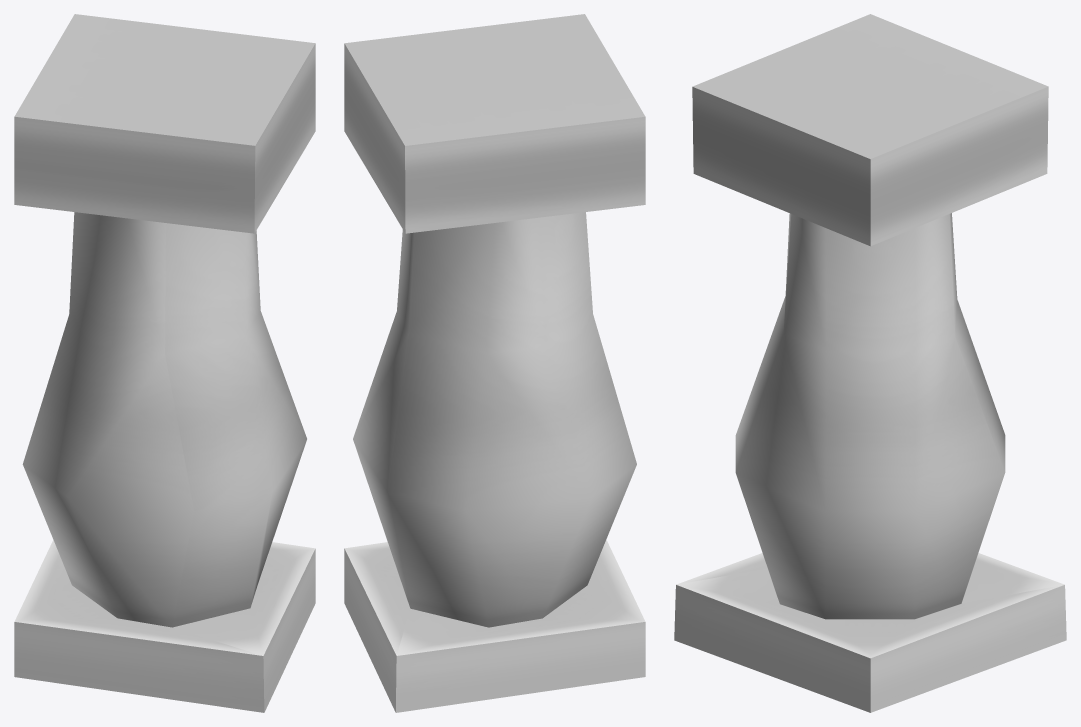
File: Column_a.fbx
The picture shows the model from 3 angles, left to right: view 1: azimuth 30°, elevation 25°; view 2: azimuth 150°, elevation 25°; view 3: azimuth 270°, elevation 25°; orthographic projection.
Visible parts, largest first — view 1: pCube40; view 2: pCube40; view 3: pCube40.
Part boxes in pixels (left/top/right/bottom): pCube40: left=14, top=14, right=315, bottom=712; pCube40: left=344, top=14, right=645, bottom=712; pCube40: left=674, top=14, right=1066, bottom=712.
Size of the model in its own units: 1.99 by 3.54 by 2.27.
